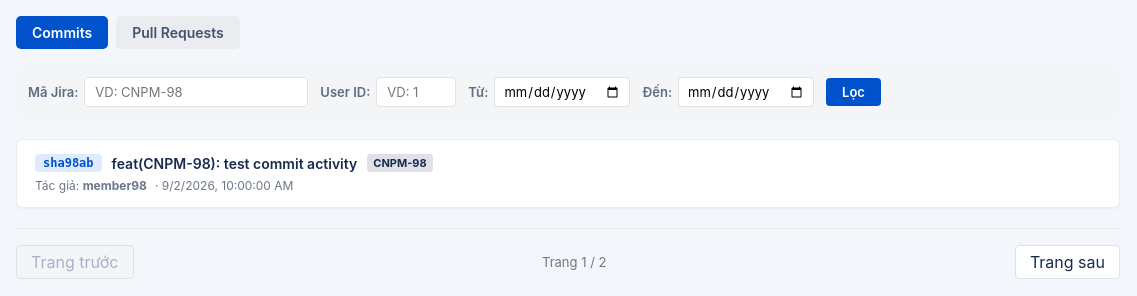
Test: GitHubActivityComponent Acceptance Tests (Task 98 DTO) › 5. Lọc theo ngày kết thúc chuyển thành cuối ngày (23:59:59.999) và hiển thị hoạt động cuối ngày
The width and height of the screenshot is (1137, 296).
Check: the link "sha98ab" is shown, box [35,154,102,172]
Type "2026-09-01" into the date field labelled "Từ:" at [562, 92], box [494,77,630,107]
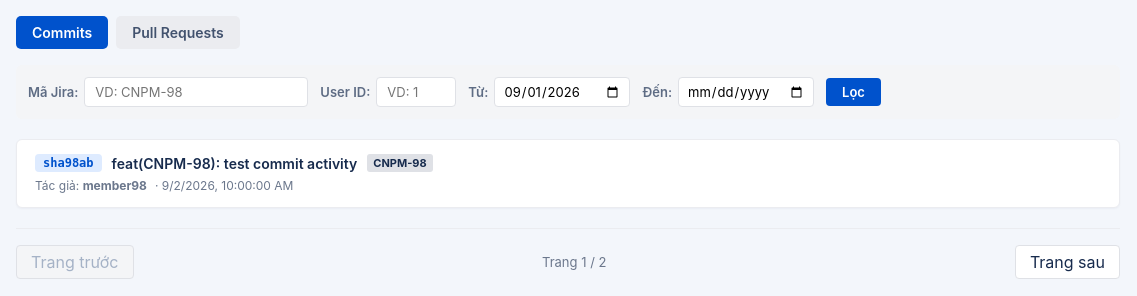
Type "2026-09-05" into the date field labelled "Đến:" at [746, 92], box [678,77,814,107]
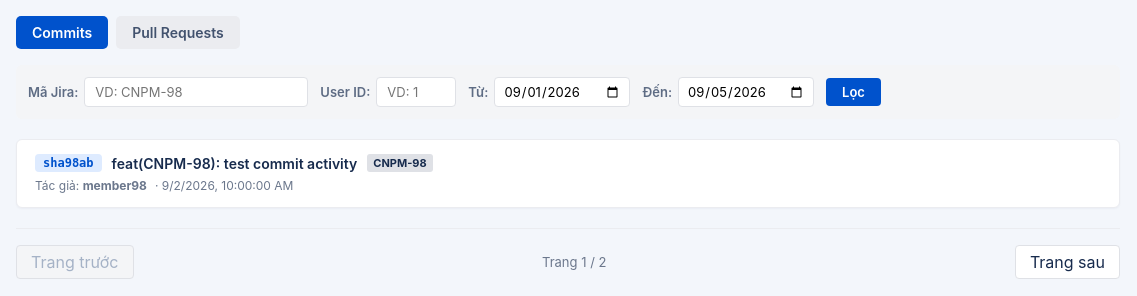
Click the button "Lọc" at [853, 92], box [826,78,881,106]
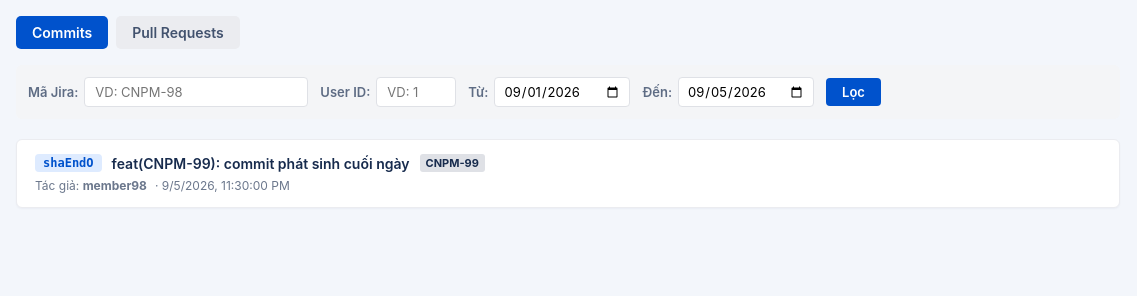
Check: the link "feat(CNPM-99): commit phát sinh cuối ngày" is shown, box [112,154,410,172]
Check: the link "shaEndO" is shown, box [35,154,102,172]
